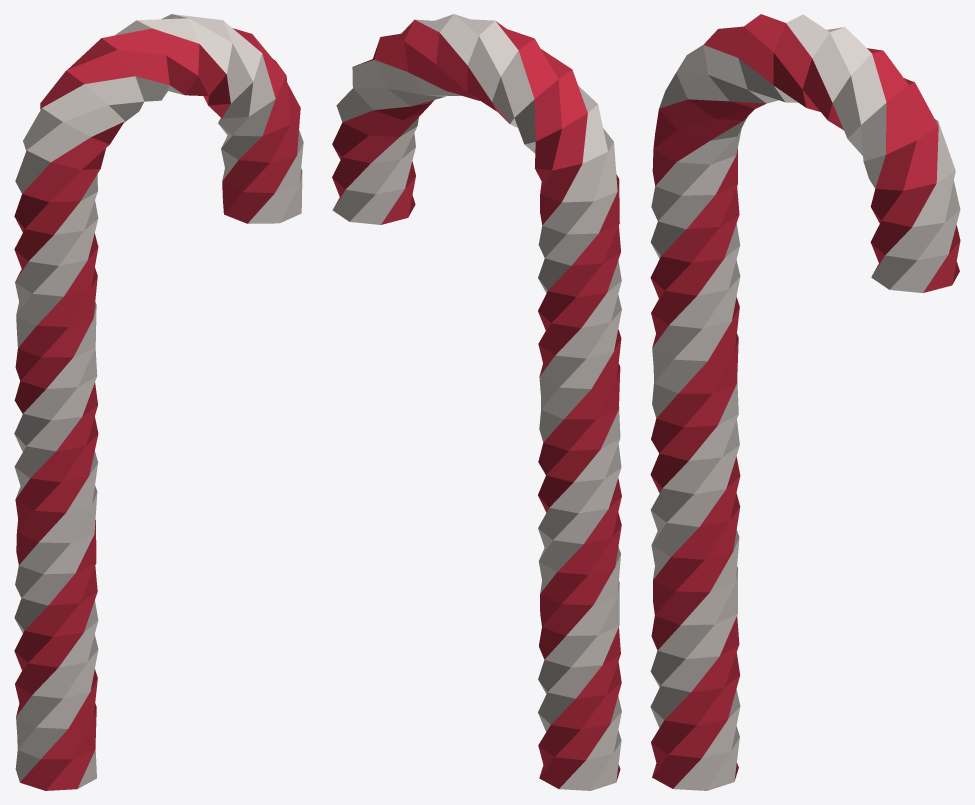
Rendered from CandyCane_Small.glb.
3 views of the same model, side by side, from view 1: azimuth 30°, elevation 25°; view 2: azimuth 150°, elevation 25°; view 3: azimuth 330°, elevation 25° (orthographic). The views are drawn at different scales.
Parts seen in each view (by area): view 1: CandyCane_Small; view 2: CandyCane_Small; view 3: CandyCane_Small.
Part boxes in pixels (<box>): CandyCane_Small: <box>14,14,303,790</box>; CandyCane_Small: <box>332,14,621,790</box>; CandyCane_Small: <box>650,14,960,790</box>.
Size of the model in its own units: 1.3 by 3.24 by 0.34.
